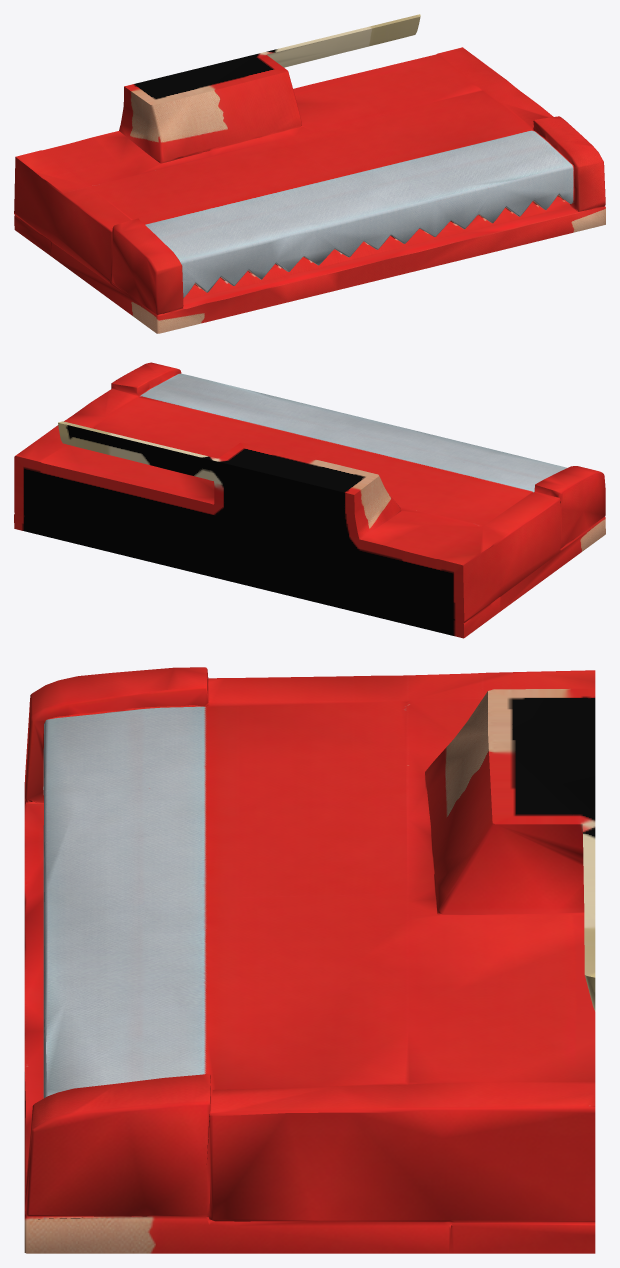
File: 5-upper-walls-front.fbx
The picture shows the model from 3 angles, top to bottom: view 1: azimuth 30°, elevation 25°; view 2: azimuth 150°, elevation 25°; view 3: azimuth 270°, elevation 25°; orthographic projection. The views are drawn at different scales.
Visible parts, largest first — view 1: upper-walls-front; view 2: upper-walls-front; view 3: upper-walls-front.
Part boxes in pixels (left/top/right/bottom): upper-walls-front: left=14, top=14, right=605, bottom=333; upper-walls-front: left=14, top=362, right=605, bottom=638; upper-walls-front: left=24, top=667, right=595, bottom=1253.
Size of the model in its own units: 8283 by 2051 by 4543.
Materials: 1 (1 with a texture image).
